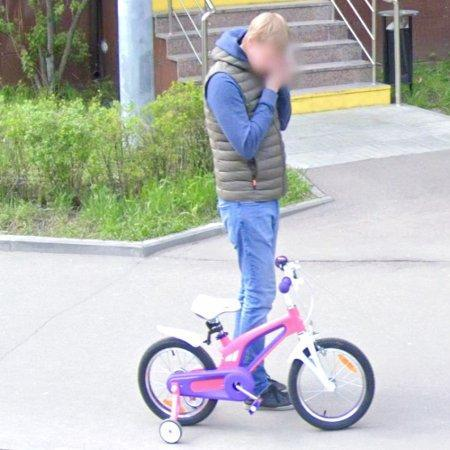bicycles: (138, 257, 376, 445)
